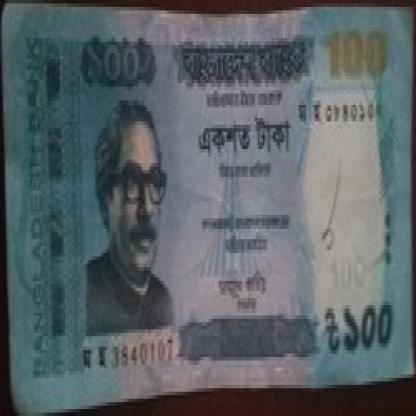one hundred taka: (320, 24, 392, 87), (82, 38, 150, 90), (342, 302, 398, 354)
